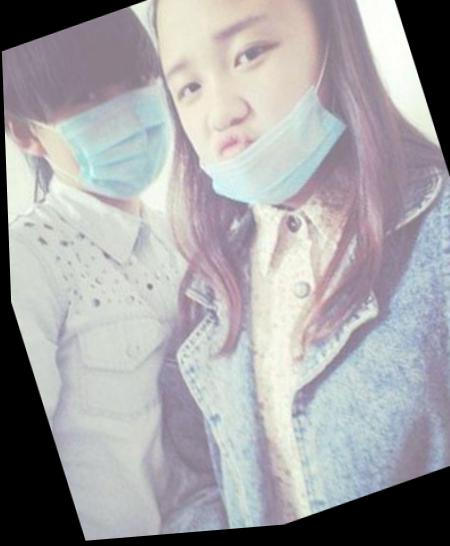OK: (34, 42, 201, 214)
WRONG: (149, 1, 375, 221)
